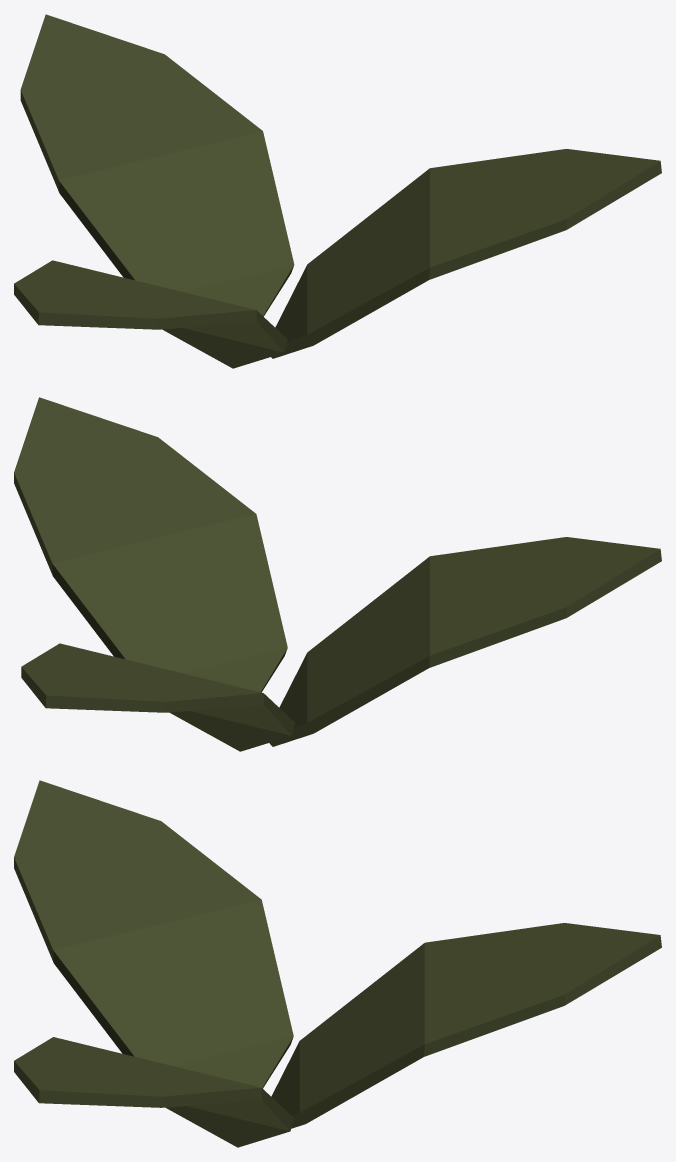
File: leaves_1.fbx
The picture shows the model from 3 angles, top to bottom: view 1: azimuth 30°, elevation 25°; view 2: azimuth 150°, elevation 25°; view 3: azimuth 270°, elevation 25°; orthographic projection. The views are drawn at different scales.
Parts seen in each view (by area): view 1: flower; view 2: flower; view 3: flower.
Part boxes in pixels (bbox=[...]): flower: bbox=[14, 14, 661, 368]; flower: bbox=[14, 397, 661, 751]; flower: bbox=[14, 780, 661, 1147].
Size of the model in its own units: 19.92 by 6.05 by 17.54.
